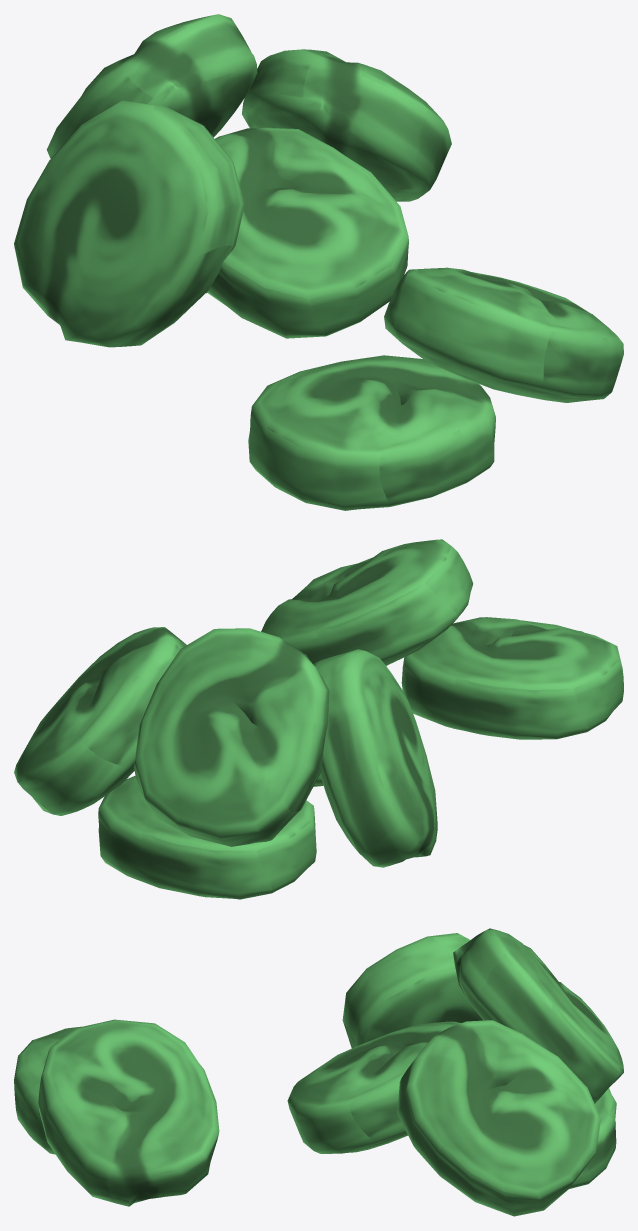
File: Deamond.fbx
3 views of the same model, one above another, from view 1: azimuth 30°, elevation 25°; view 2: azimuth 150°, elevation 25°; view 3: azimuth 270°, elevation 25° (orthographic). The views are drawn at different scales.
Visible parts, largest first — view 1: Coins.002; view 2: Coins.002; view 3: Coins.002.
Boxes of the visible parts, <box> form: Coins.002: <box>14,14,623,510</box>; Coins.002: <box>14,539,623,899</box>; Coins.002: <box>14,928,623,1216</box>.
Bounding box in the file's own units: 180 × 107 × 272.
